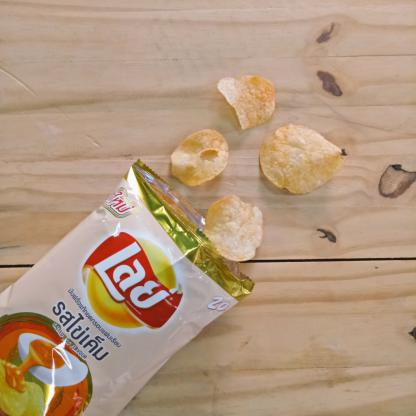potatochip: (0, 158, 256, 416)
